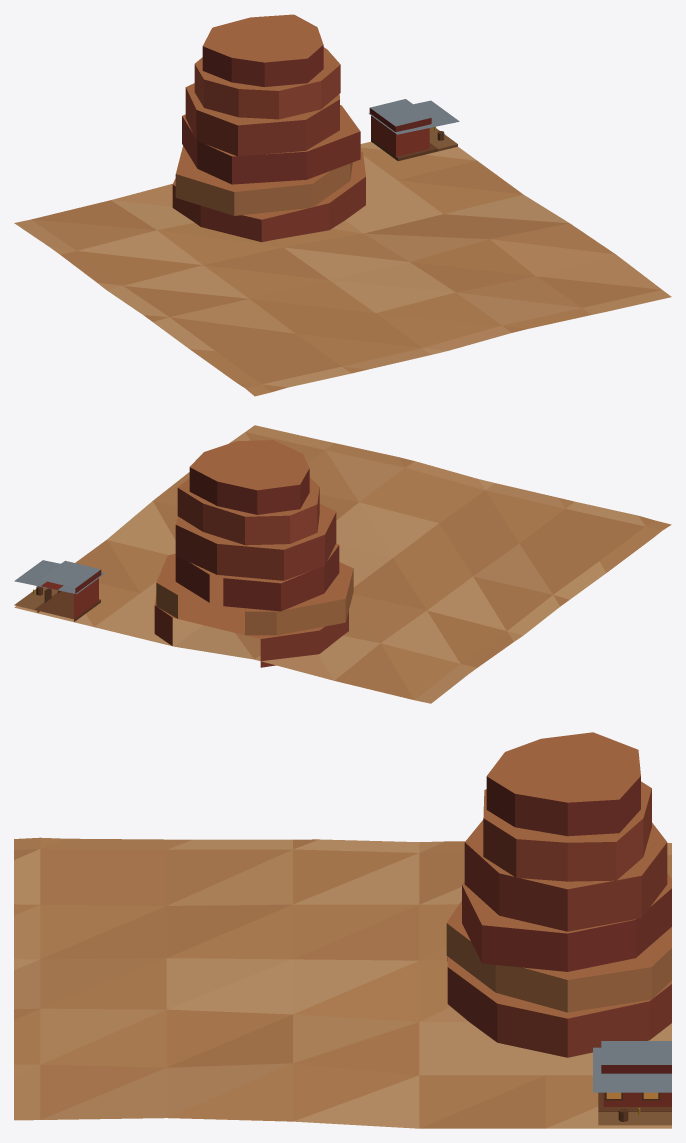
3 views of the same model, one above another, from view 1: azimuth 30°, elevation 25°; view 2: azimuth 150°, elevation 25°; view 3: azimuth 270°, elevation 25° (orthographic). The views are drawn at different scales.
Parts seen in each view (by area): view 1: baked; view 2: baked; view 3: baked.
Boxes of the visible parts, x1,y1,x2,y2 form: baked: (14,14,671,396); baked: (14,425,671,703); baked: (14,732,671,1128).
Size of the model in its own units: 62.5 by 23.57 by 62.5.
